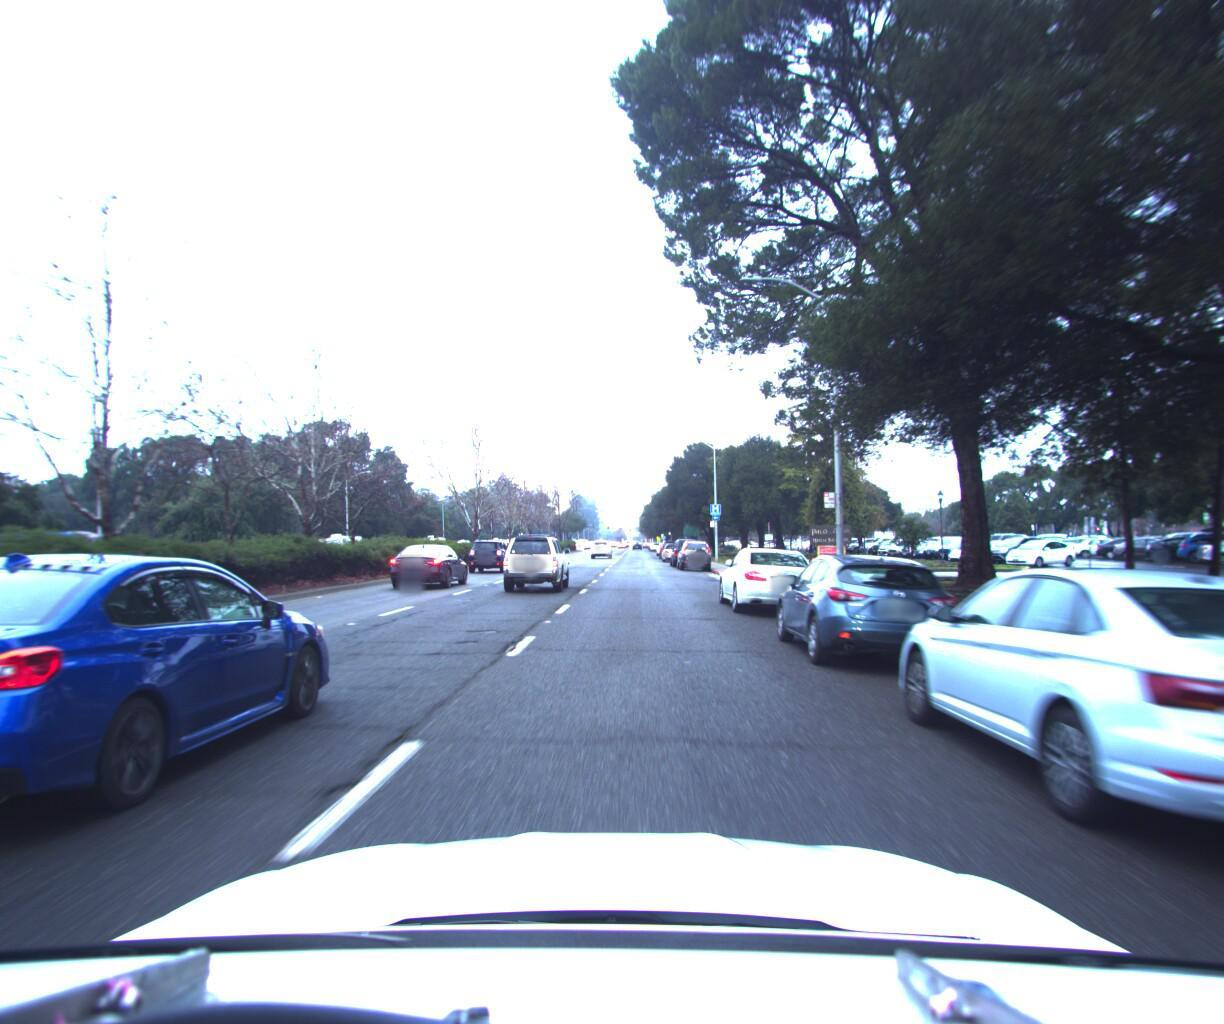car: (872, 545, 1224, 911), (0, 545, 352, 879), (764, 540, 973, 682), (712, 537, 831, 622), (498, 531, 571, 591), (387, 539, 470, 590), (467, 532, 517, 569), (672, 531, 712, 566), (666, 529, 702, 563), (658, 537, 684, 557), (589, 533, 613, 553)
other_vehicle: (309, 527, 364, 553)
